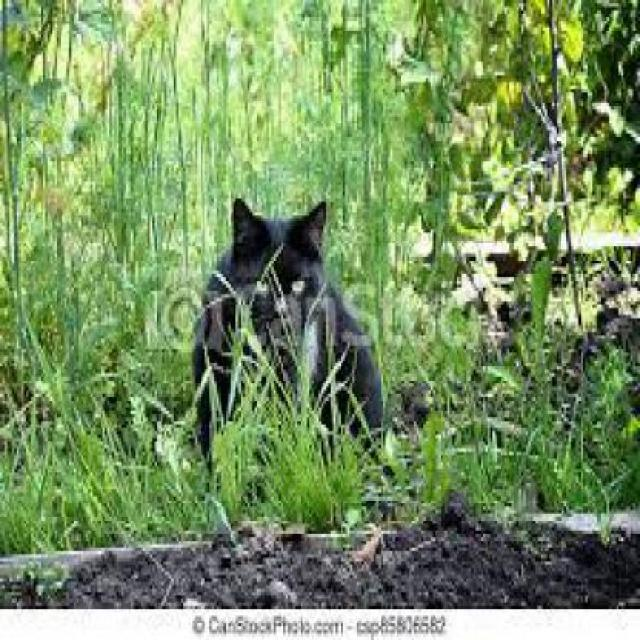animals: (178, 185, 400, 492)
